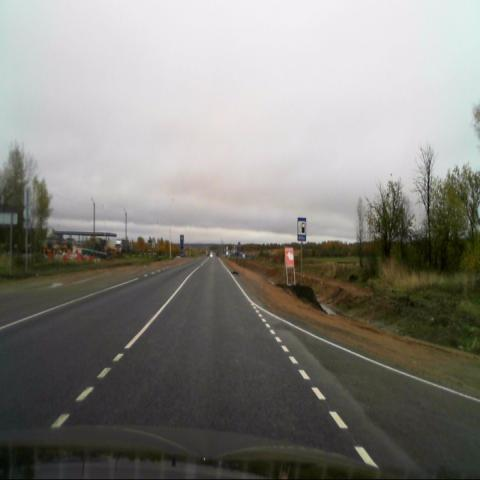7_3: (297, 218, 306, 242)
